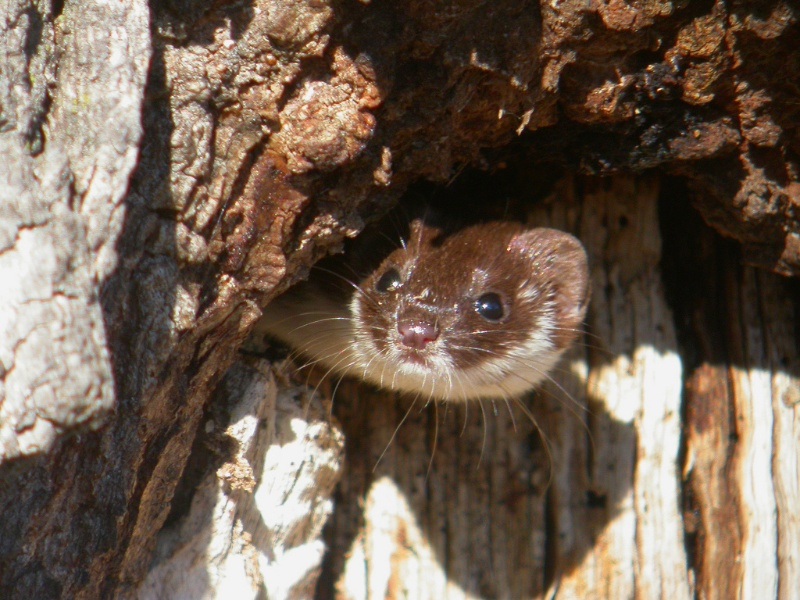minkish: (247, 152, 601, 425)
